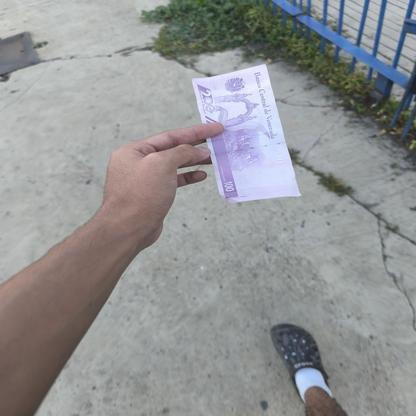one_hundred-back-vef: (190, 64, 302, 204)
